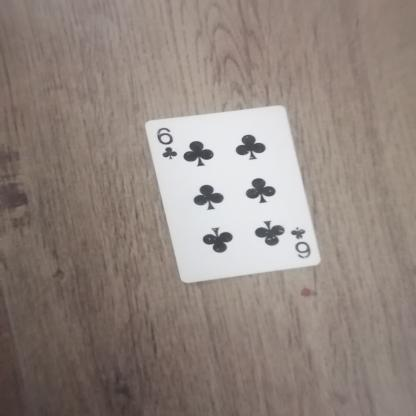6C: (284, 225, 320, 265), (154, 122, 185, 166)
